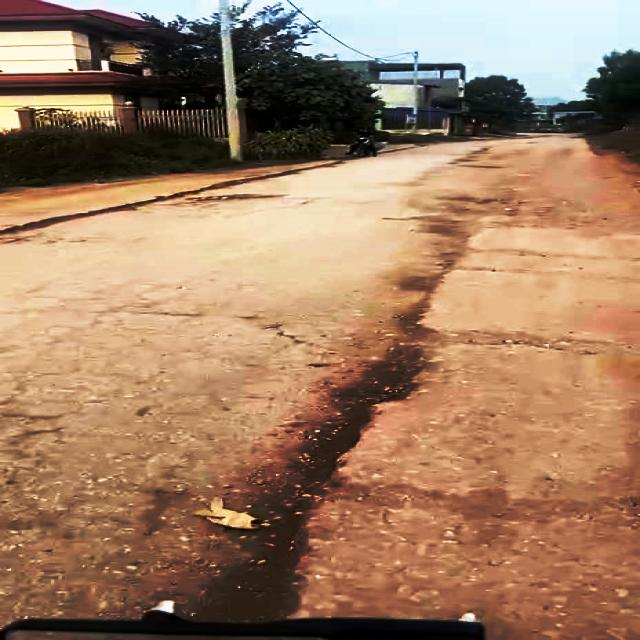pothole: (170, 331, 441, 633)
